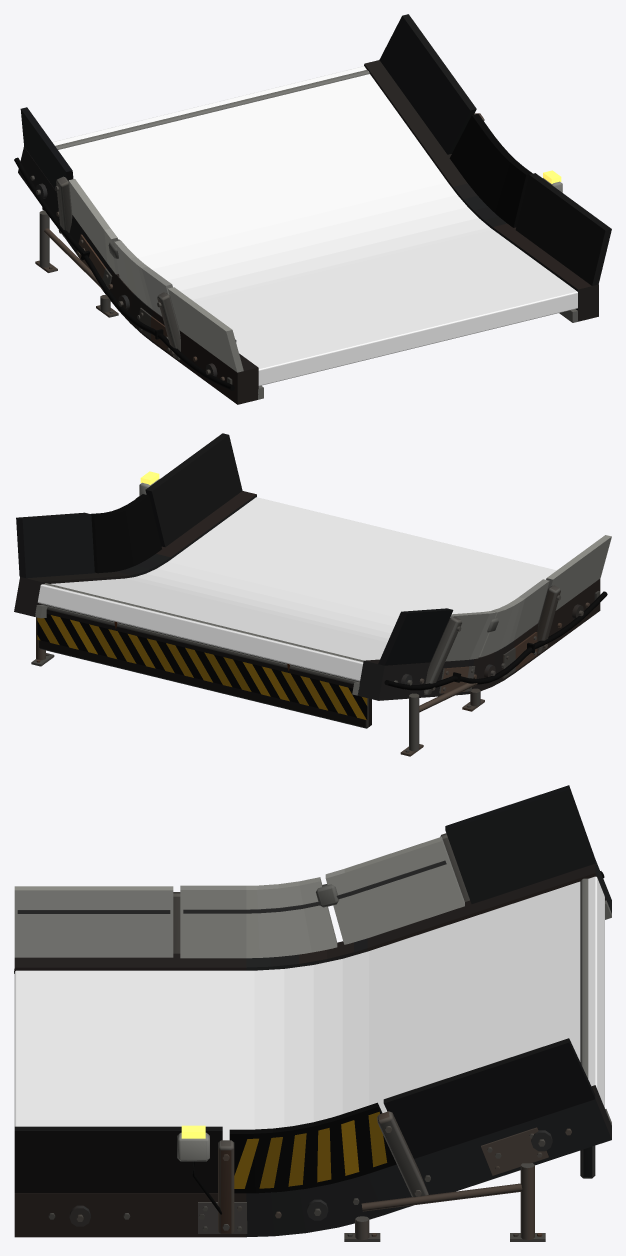
File: conveyor_loader.glb
3 views of the same model, one above another, from view 1: azimuth 30°, elevation 25°; view 2: azimuth 150°, elevation 25°; view 3: azimuth 270°, elevation 25° (orthographic). The views are drawn at different scales.
Parts seen in each view (by area): view 1: Belt, Frame; view 2: Frame, Belt; view 3: Frame, Belt.
Boxes of the visible parts, <box> form: Belt: <box>52,66,577,385</box>; Frame: <box>14,14,611,404</box>; Frame: <box>14,433,611,756</box>; Belt: <box>37,497,556,681</box>; Frame: <box>14,785,611,1241</box>; Belt: <box>14,876,604,1140</box>.
Bounding box in the file's own units: 2.15 × 0.7534 × 2.
